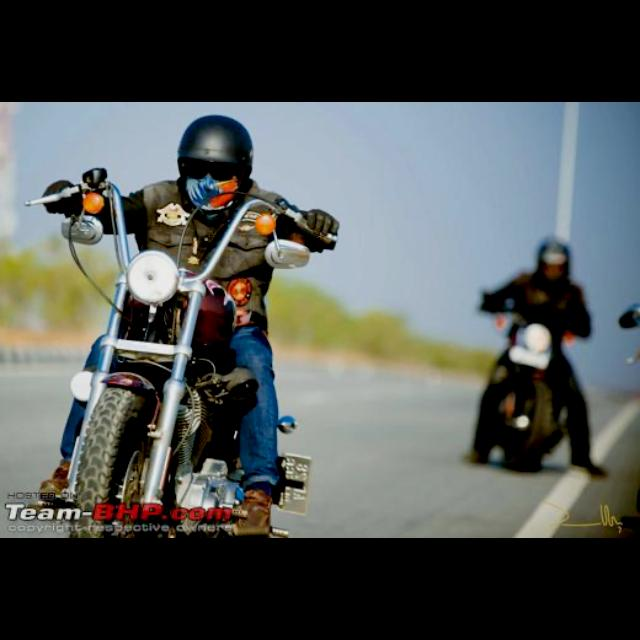With Helmet: (174, 108, 260, 215)
